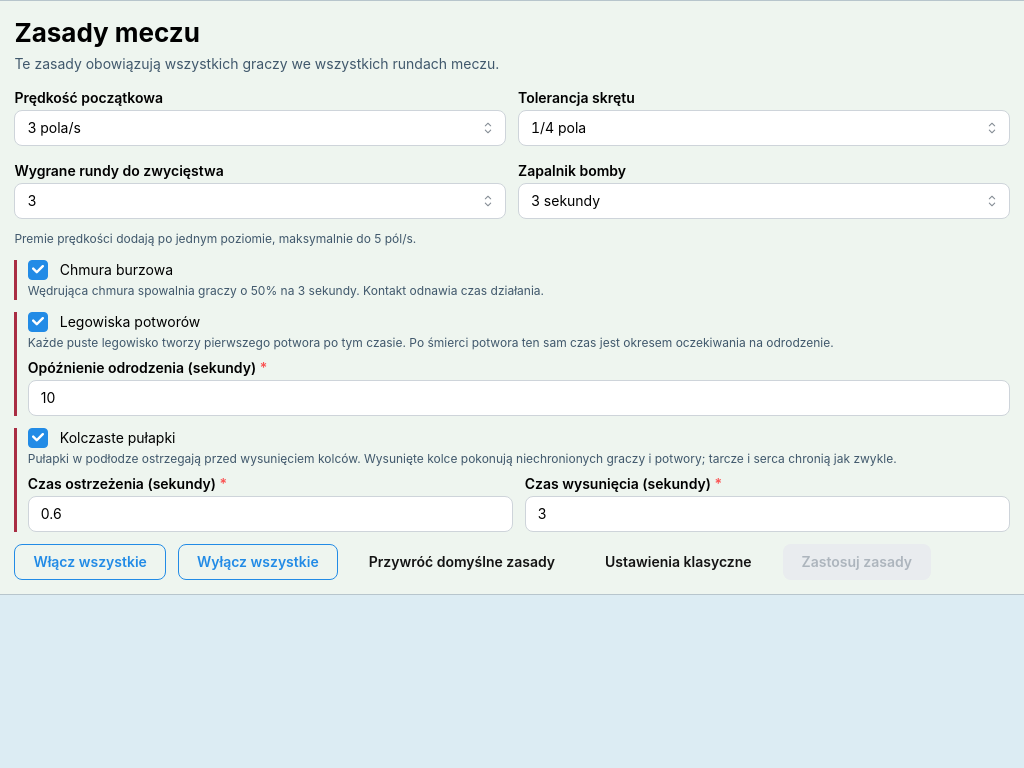
Scenario: gameplay settings bulk actions › keeps empty catalogs safe and provides the agreed Polish bulk actions
Click the button "Włącz wszystkie": (90, 562) top-left (14, 544), bottom-right (166, 580)
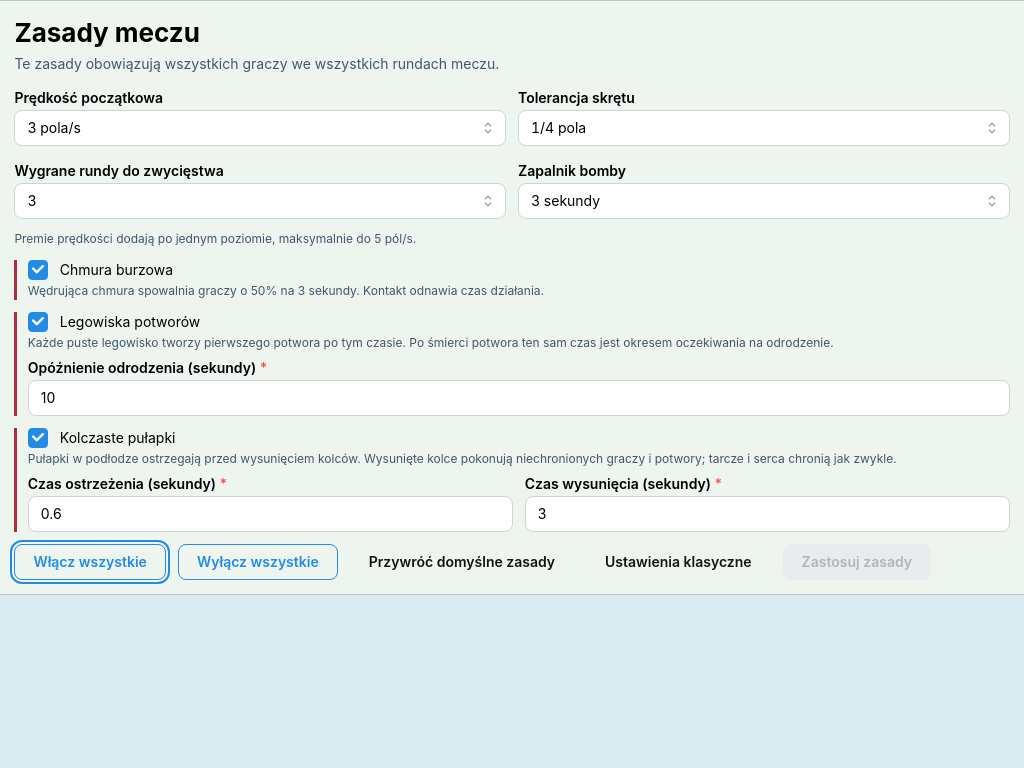
Expected: the checkbox labelled "Chmura burzowa" is checked, top-left (28, 260), bottom-right (48, 280)
Click the button "Wyłącz wszystkie": (258, 562) top-left (178, 544), bottom-right (338, 580)
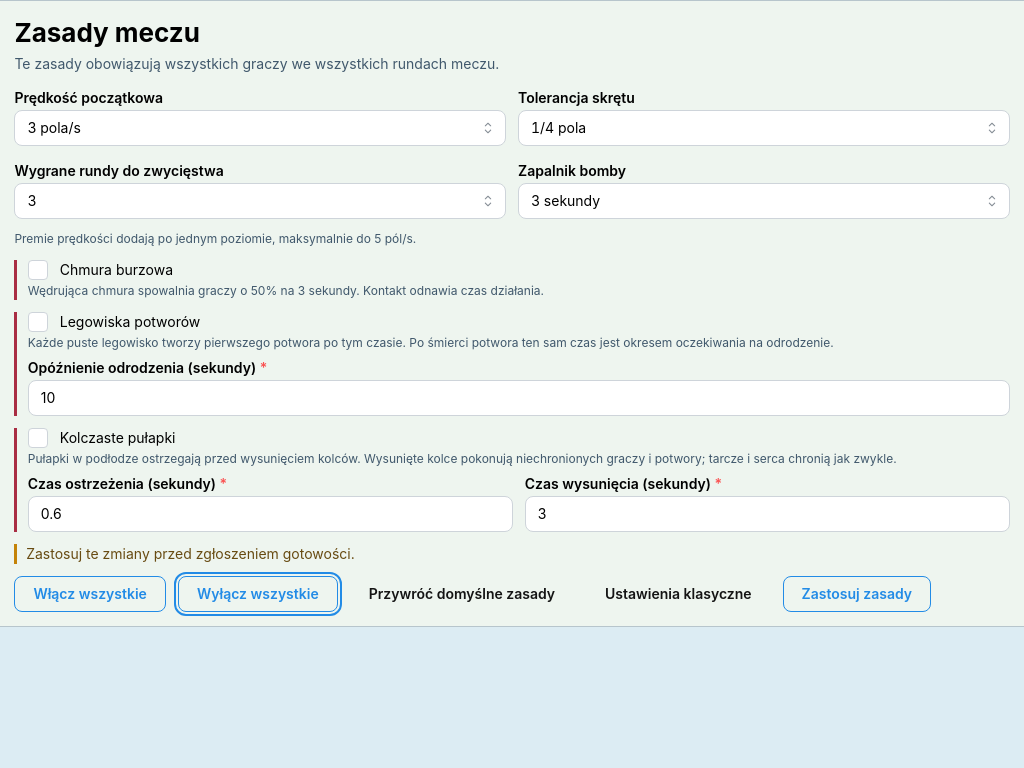
Expected: the checkbox labelled "Chmura burzowa" is not checked, top-left (28, 260), bottom-right (48, 280)
Expected: the button "Zastosuj zasady" is enabled, top-left (783, 576), bottom-right (931, 612)
